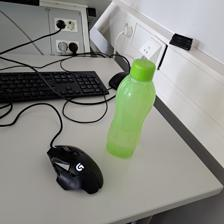bottle: (105, 58, 156, 159)
mouse: (46, 143, 104, 195)
